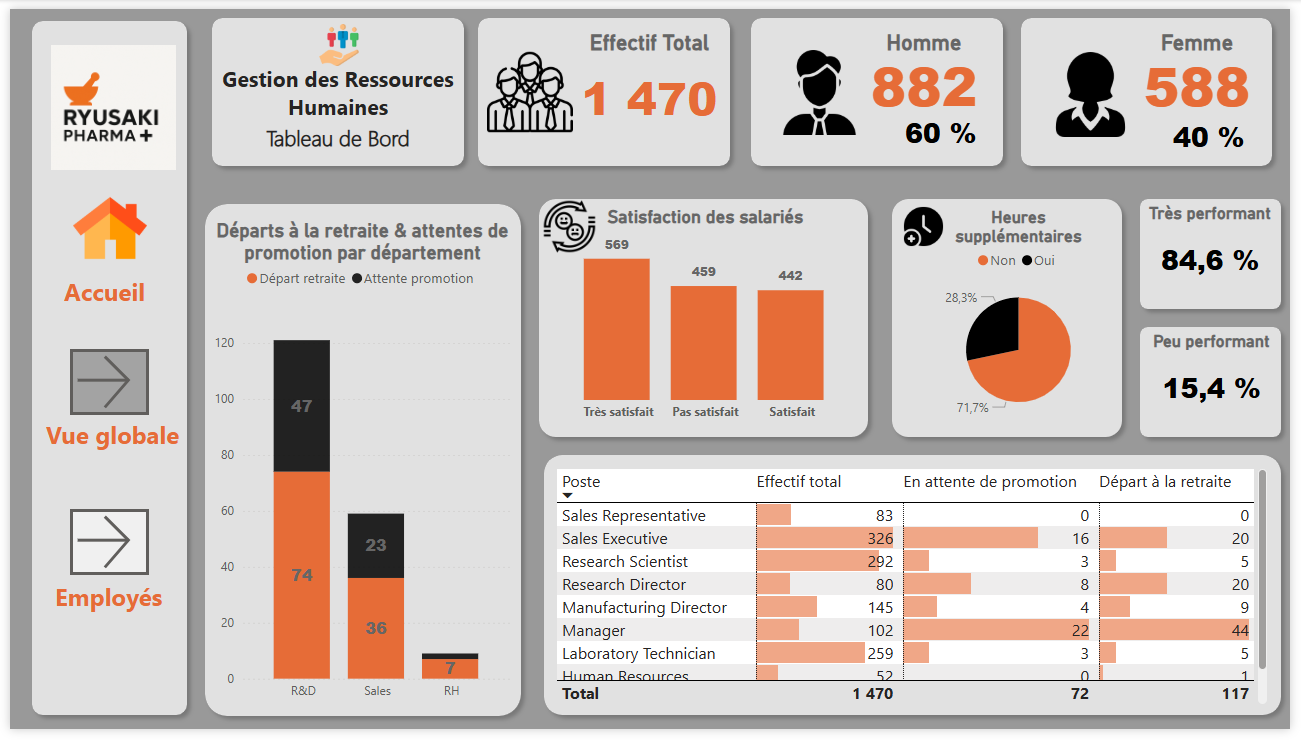

The dashboard page shown, as its layout file describes it:
{"tool":"powerbi","page":{"name":"Vue globale","canvas":[1280,720],"ordinal":1},"visuals":[{"type":"shape","box":[13.4,3.1,172.7,712.4],"z":0},{"type":"shape","box":[193.3,0,269.5,165.7],"z":1000},{"type":"shape","box":[459.4,0,269.5,165.7],"z":2000},{"type":"shape","box":[732.2,0,269.5,165.7],"z":3000},{"type":"shape","box":[1001.7,0,269.5,165.7],"z":4000},{"type":"textbox","box":[205.4,49.7,245.2,66.3],"z":5000},{"type":"textbox","box":[234.1,109.3,187.7,38.7],"z":6000},{"type":"image","box":[301.5,9.9,53,51.9],"z":7000},{"type":"card","title":"Effectif Total","fields":{"Values":["Toutes mesures.Total Emp"]},"box":[562.1,21,154.8,112.8],"z":8000},{"type":"card","title":"Homme","fields":{"Values":["Toutes mesures.Male"]},"box":[838.2,21,151.3,88.4],"z":9000},{"type":"card","title":"Homme","fields":{"Values":["Toutes mesures.% male"]},"box":[867,101.6,127,46.4],"z":10000},{"type":"card","title":"Femme","fields":{"Values":["Toutes mesures.Female"]},"box":[1112.1,21,150.2,88.4],"z":11000},{"type":"card","title":"Homme","fields":{"Values":["Toutes mesures.% female"]},"box":[1135.3,106,127,46.4],"z":12000},{"type":"image","box":[762,32,95,101.6],"z":13000},{"type":"image","box":[1032.6,36.4,95,97.2],"z":14000},{"type":"shape","box":[186,186,333.9,529.6],"z":15000},{"type":"columnChart","title":"Départs à la retraite & attentes de promotion par département","fields":{"Category":["HR Analytics Data.Department"],"Y":["Toutes mesures.Départ retraite","Toutes mesures.Attente promotion"]},"box":[199,209.9,306.7,490.5],"z":16000},{"type":"shape","box":[519.8,180.5,346.9,256.7],"z":17000},{"type":"shape","box":[1121.2,180.5,158.8,128.3],"z":18000},{"type":"columnChart","title":"Satisfaction des salariés","fields":{"Category":["HR Analytics Data.Satisfaction travail"],"Y":["Toutes mesures.Total Emp"]},"box":[534,196.8,323,224],"z":19000},{"type":"shape","box":[873.3,180.5,248,256.7],"z":20000},{"type":"pieChart","title":"Heures supplémentaires","fields":{"Category":["HR Analytics Data.OverTime"],"Y":["Toutes mesures.Total Emp"]},"box":[913.6,197.7,189.7,224.6],"z":21000},{"type":"shape","box":[1121.2,308.9,158.8,128.3],"z":22000},{"type":"card","title":"Très performant","fields":{"Values":["Toutes mesures.% Très performant"]},"box":[1132.1,193.6,135.9,101.1],"z":23000},{"type":"card","title":"Peu performant","fields":{"Values":["Toutes mesures.% Peu performant"]},"box":[1135.4,321.9,132.7,101.1],"z":24000},{"type":"image","box":[470.9,34.8,97.9,95.7],"z":25000},{"type":"image","box":[886.3,189.2,54.4,55.5],"z":26000},{"type":"image","box":[525.3,183.8,68.5,67.4],"z":27000},{"type":"shape","box":[525,437,755,278],"z":28000},{"type":"tableEx","fields":{"Values":["HR Analytics Data.JobRole","Toutes mesures.Total Emp","Toutes mesures.Attente promotion","Toutes mesures.Départ retraite"]},"box":[541,455,721,245],"z":29000},{"type":"image","box":[13,31,180.7,134.8],"z":30000},{"type":"image","box":[53.9,176.7,91.9,83.9],"z":31000},{"type":"actionButton","box":[59.9,340.5,78.9,65.9],"z":32000},{"type":"textbox","box":[49,261,101,46],"z":33000},{"type":"actionButton","box":[59.9,500.2,78.9,65.9],"z":34000},{"type":"textbox","box":[31,404.4,151.8,45.9],"z":35000},{"type":"textbox","box":[40,566,134,46],"z":36000}]}

Visuals, with their boxes in screenshot pixels (x1, y1, x2, y2), scaled from the page's 1280x720 canvas onto the 1301x740 screenshot:
shape: <region>14, 3, 189, 735</region>
shape: <region>196, 0, 470, 170</region>
shape: <region>467, 0, 741, 170</region>
shape: <region>744, 0, 1018, 170</region>
shape: <region>1018, 0, 1292, 170</region>
textbox: <region>209, 51, 458, 119</region>
textbox: <region>238, 112, 429, 152</region>
image: <region>306, 10, 360, 64</region>
"Effectif Total" card: <region>571, 22, 729, 138</region>
"Homme" card: <region>852, 22, 1006, 112</region>
"Homme" card: <region>881, 104, 1010, 152</region>
"Femme" card: <region>1130, 22, 1283, 112</region>
"Homme" card: <region>1154, 109, 1283, 157</region>
image: <region>775, 33, 871, 137</region>
image: <region>1050, 37, 1146, 137</region>
shape: <region>189, 191, 528, 735</region>
"Départs à la retraite & attentes de promotion par département" columnChart: <region>202, 216, 514, 720</region>
shape: <region>528, 186, 881, 449</region>
shape: <region>1140, 186, 1300, 317</region>
"Satisfaction des salariés" columnChart: <region>543, 202, 871, 432</region>
shape: <region>888, 186, 1140, 449</region>
"Heures supplémentaires" pieChart: <region>929, 203, 1121, 434</region>
shape: <region>1140, 317, 1300, 449</region>
"Très performant" card: <region>1151, 199, 1289, 303</region>
"Peu performant" card: <region>1154, 331, 1289, 435</region>
image: <region>479, 36, 578, 134</region>
image: <region>901, 194, 956, 251</region>
image: <region>534, 189, 604, 258</region>
shape: <region>534, 449, 1300, 735</region>
tableEx - HR Analytics Data.JobRole x Toutes mesures.Total Emp: <region>550, 468, 1283, 719</region>
image: <region>13, 32, 197, 170</region>
image: <region>55, 182, 148, 268</region>
actionButton: <region>61, 350, 141, 418</region>
textbox: <region>50, 268, 152, 316</region>
actionButton: <region>61, 514, 141, 582</region>
textbox: <region>32, 416, 186, 463</region>
textbox: <region>41, 582, 177, 629</region>
